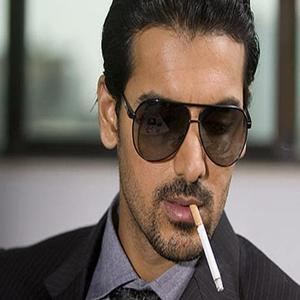cigarette: (191, 203, 224, 293)
